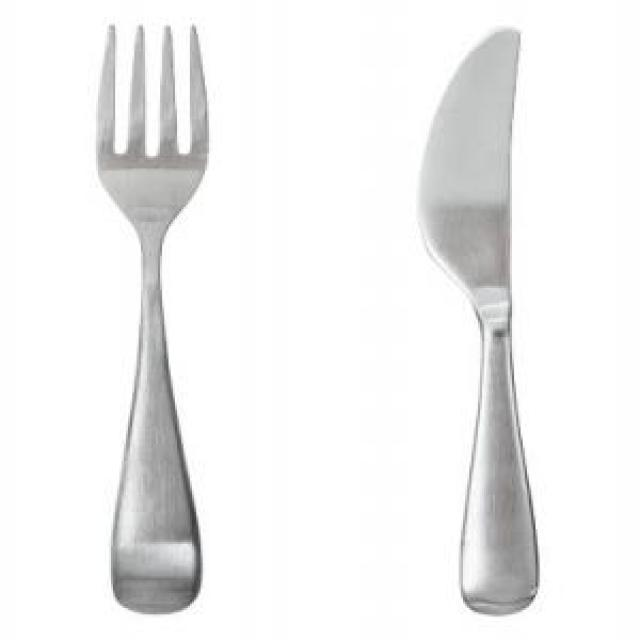knife: (414, 25, 573, 620)
